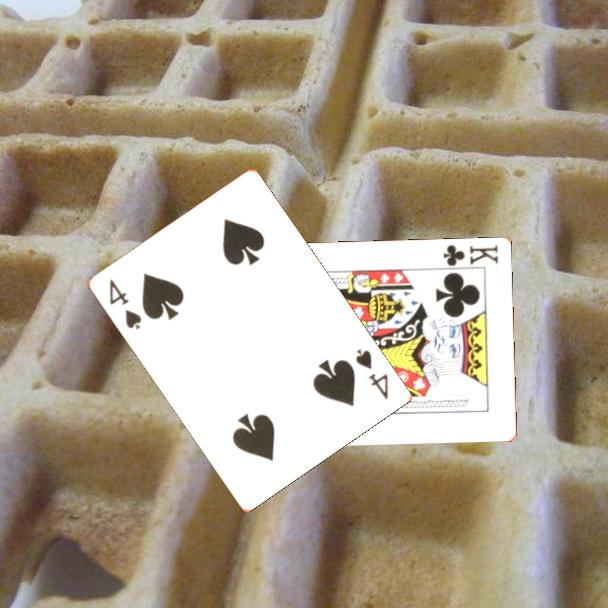c13: (439, 242, 501, 269)
s04: (351, 345, 391, 403), (105, 275, 144, 333)
